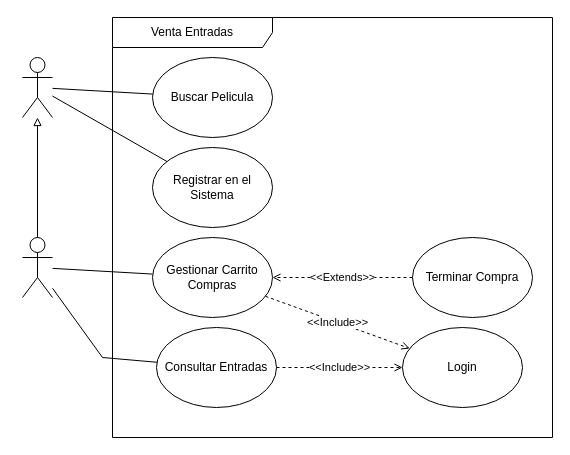
Some shapes in this 570 by 455 pixel diagram are drawn without their labels. The centre of each missing label's shape, as x and y in pixels:
"Cliente" belongs at point (37, 267).
"Usuario" belongs at point (37, 87).
